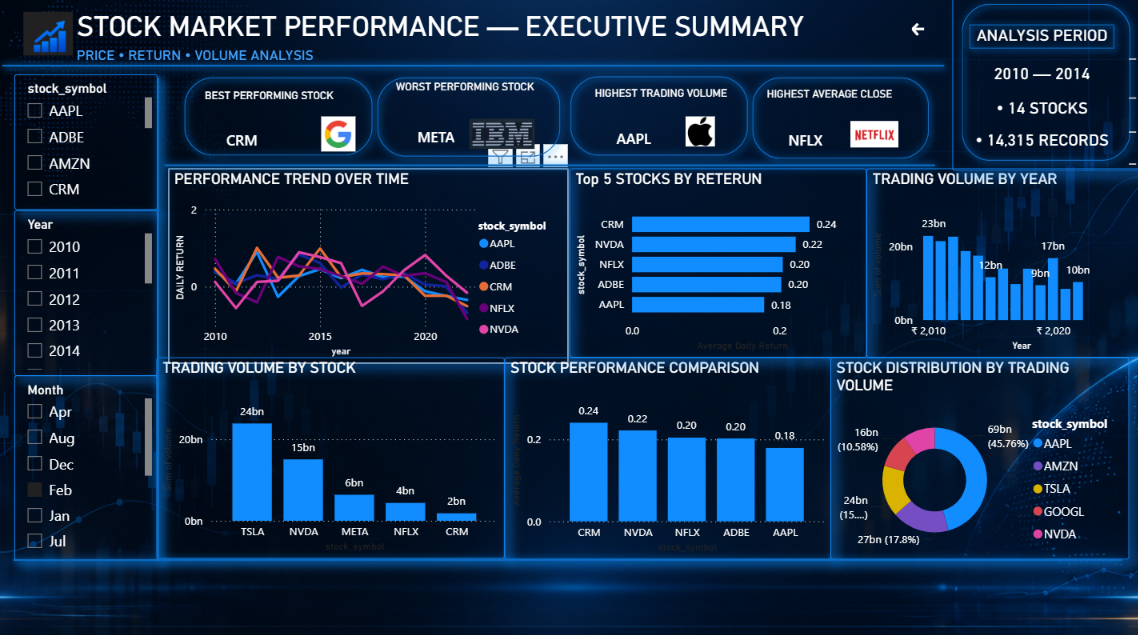

What the dashboard file says about the page in this screenshot:
{"tool":"powerbi","page":{"name":"DETAILED_ANALYSIS","canvas":[1280,720],"ordinal":2},"visuals":[{"type":"lineChart","title":"PERFORMANCE TREND OVER TIME","fields":{"Category":["big_tech_stock_prices.date.Variation.Date Hierarchy.Year"],"Series":["big_tech_stock_prices.stock_symbol"],"Y":["big_tech_stock_prices.Average Daily Return"]},"box":[194.2,194.2,446.4,217.4],"z":0},{"type":"donutChart","title":"STOCK DISTRIBUTION BY TRADING VOLUME","fields":{"Category":["big_tech_stock_prices.stock_symbol"],"Y":["Sum(big_tech_stock_prices.volume)"]},"box":[933.7,405.8,333.6,225.3],"z":1000},{"type":"clusteredColumnChart","title":"TRADING VOLUME BY STOCK","fields":{"Category":["big_tech_stock_prices.stock_symbol"],"Y":["Sum(big_tech_stock_prices.volume)"]},"box":[181.2,405.8,388.4,224.6],"z":2000},{"type":"clusteredColumnChart","title":"STOCK PERFORMANCE COMPARISON","fields":{"Category":["big_tech_stock_prices.stock_symbol"],"Y":["big_tech_stock_prices.Average Daily Return"]},"box":[569.2,405.8,364.5,225.3],"z":3000},{"type":"slicer","fields":{"Values":["big_tech_stock_prices.stock_symbol"]},"box":[22.2,88.9,160,151.1],"z":4000},{"type":"cardVisual","title":"HIGHEST AVERAGE CLOSE","fields":{"Data":["big_tech_stock_prices.Highest Average Close Stock"]},"box":[857.4,103.9,155.3,89.6],"z":5000},{"type":"shape","box":[203.1,83.9,227.9,105.1],"z":6000},{"type":"image","box":[530.3,137,72.8,37],"z":7000},{"type":"image","box":[764.1,135.8,49,33.4],"z":8000},{"type":"textbox","title":"STOCK MARKET PERFORMANCE — EXECUTIVE SUMMARY","box":[87,17.4,876.6,52.5],"z":9000},{"type":"image","box":[32,18,55,52],"z":10000},{"type":"textbox","title":"PRICE • RETURN • VOLUME ANALYSIS","box":[87,59,734,22],"z":11000},{"type":"slicer","fields":{"Values":["big_tech_stock_prices.date.Variation.Date Hierarchy.Year"]},"box":[22.2,241.1,160,184.4],"z":12000},{"type":"slicer","fields":{"Values":["big_tech_stock_prices.Month"]},"box":[22.2,425.6,160,206.7],"z":13000},{"type":"shape","box":[419.3,83.9,222,106.3],"z":14000},{"type":"shape","box":[634.2,82.7,216.1,106.3],"z":15000},{"type":"shape","box":[12.8,601.2,1255.8,61.6],"z":16000},{"type":"shape","box":[134.9,88.4,95.6,556.7],"z":17000},{"type":"shape","box":[181.2,159.4,878.3,62.3],"z":18000},{"type":"shape","box":[0,49.3,1069.6,60.9],"z":19000},{"type":"shape","box":[837.4,83.9,214.9,108.7],"z":20000},{"type":"image","box":[353.1,135.8,62.6,39],"z":21000},{"type":"clusteredColumnChart","title":"TRADING VOLUME BY YEAR","fields":{"Category":["big_tech_stock_prices.date.Variation.Date Hierarchy.Year"],"Y":["Sum(big_tech_stock_prices.volume)"]},"box":[973.9,194.2,305.8,211.6],"z":22000},{"type":"clusteredBarChart","title":"Top 5 STOCKS BY RETERUN","fields":{"Category":["big_tech_stock_prices.stock_symbol"],"Y":["big_tech_stock_prices.Average Daily Return"]},"box":[642,194.2,331.9,211.6],"z":23000},{"type":"cardVisual","title":"HIGHEST TRADING VOLUME","fields":{"Data":["big_tech_stock_prices.Highest Volume Stock"]},"box":[665.2,102.9,172.4,88.6],"z":24000},{"type":"cardVisual","title":"WORST PERFORMING STOCK","fields":{"Data":["big_tech_stock_prices.Worst Performing Stock"]},"box":[443,96.5,198.4,100.4],"z":25000},{"type":"cardVisual","title":"BEST PERFORMING STOCK","fields":{"Data":["big_tech_stock_prices.Highest Average Return"]},"box":[230.3,106.3,155.3,87.2],"z":26000},{"type":"image","box":[955.5,137,53.7,37],"z":27000},{"type":"shape","box":[1069.6,0,210.1,197.1],"z":28000},{"type":"textbox","title":"2010 — 2023","box":[1059.4,78.3,220.3,43.5],"z":29000},{"type":"textbox","title":"ANALYSIS PERIOD","box":[1059.4,34.8,220.3,43.5],"z":30000},{"type":"textbox","title":" •   14 STOCKS       ","box":[1059.4,115.9,220.3,43.5],"z":31000},{"type":"textbox","title":"        •     14,315 RECORDS","box":[1059.4,152.2,220.3,43.5],"z":32000},{"type":"shape","box":[1079.7,24.6,179.7,44.9],"z":33000},{"type":"actionButton","box":[1011.6,18.8,47.8,40.6],"z":34000}]}

Visuals, with their boxes in screenshot pixels (x1, y1, x2, y2), scaled from the page's 1280x720 canvas onto the 1138x635 screenshot:
"PERFORMANCE TREND OVER TIME" lineChart: [x1=173, y1=171, x2=570, y2=363]
"STOCK DISTRIBUTION BY TRADING VOLUME" donutChart: [x1=830, y1=358, x2=1127, y2=557]
"TRADING VOLUME BY STOCK" clusteredColumnChart: [x1=161, y1=358, x2=506, y2=556]
"STOCK PERFORMANCE COMPARISON" clusteredColumnChart: [x1=506, y1=358, x2=830, y2=557]
slicer - big_tech_stock_prices.stock_symbol: [x1=20, y1=78, x2=162, y2=212]
"HIGHEST AVERAGE CLOSE" cardVisual: [x1=762, y1=92, x2=900, y2=171]
shape: [x1=181, y1=74, x2=383, y2=167]
image: [x1=471, y1=121, x2=536, y2=153]
image: [x1=679, y1=120, x2=723, y2=149]
"STOCK MARKET PERFORMANCE — EXECUTIVE SUMMARY" textbox: [x1=77, y1=15, x2=857, y2=62]
image: [x1=28, y1=16, x2=77, y2=62]
"PRICE • RETURN • VOLUME ANALYSIS" textbox: [x1=77, y1=52, x2=730, y2=71]
slicer - big_tech_stock_prices.date.Variation.Date Hierarchy.Year: [x1=20, y1=213, x2=162, y2=375]
slicer - big_tech_stock_prices.Month: [x1=20, y1=375, x2=162, y2=558]
shape: [x1=373, y1=74, x2=570, y2=168]
shape: [x1=564, y1=73, x2=756, y2=167]
shape: [x1=11, y1=530, x2=1128, y2=585]
shape: [x1=120, y1=78, x2=205, y2=569]
shape: [x1=161, y1=141, x2=942, y2=196]
shape: [x1=0, y1=43, x2=951, y2=97]
shape: [x1=745, y1=74, x2=936, y2=170]
image: [x1=314, y1=120, x2=370, y2=154]
"TRADING VOLUME BY YEAR" clusteredColumnChart: [x1=866, y1=171, x2=1137, y2=358]
"Top 5 STOCKS BY RETERUN" clusteredBarChart: [x1=571, y1=171, x2=866, y2=358]
"HIGHEST TRADING VOLUME" cardVisual: [x1=591, y1=91, x2=745, y2=169]
"WORST PERFORMING STOCK" cardVisual: [x1=394, y1=85, x2=570, y2=174]
"BEST PERFORMING STOCK" cardVisual: [x1=205, y1=94, x2=343, y2=171]
image: [x1=849, y1=121, x2=897, y2=153]
shape: [x1=951, y1=0, x2=1137, y2=174]
"2010 — 2023" textbox: [x1=942, y1=69, x2=1137, y2=107]
"ANALYSIS PERIOD" textbox: [x1=942, y1=31, x2=1137, y2=69]
" •   14 STOCKS       " textbox: [x1=942, y1=102, x2=1137, y2=141]
"        •     14,315 RECORDS" textbox: [x1=942, y1=134, x2=1137, y2=173]
shape: [x1=960, y1=22, x2=1120, y2=61]
actionButton: [x1=899, y1=17, x2=942, y2=52]
